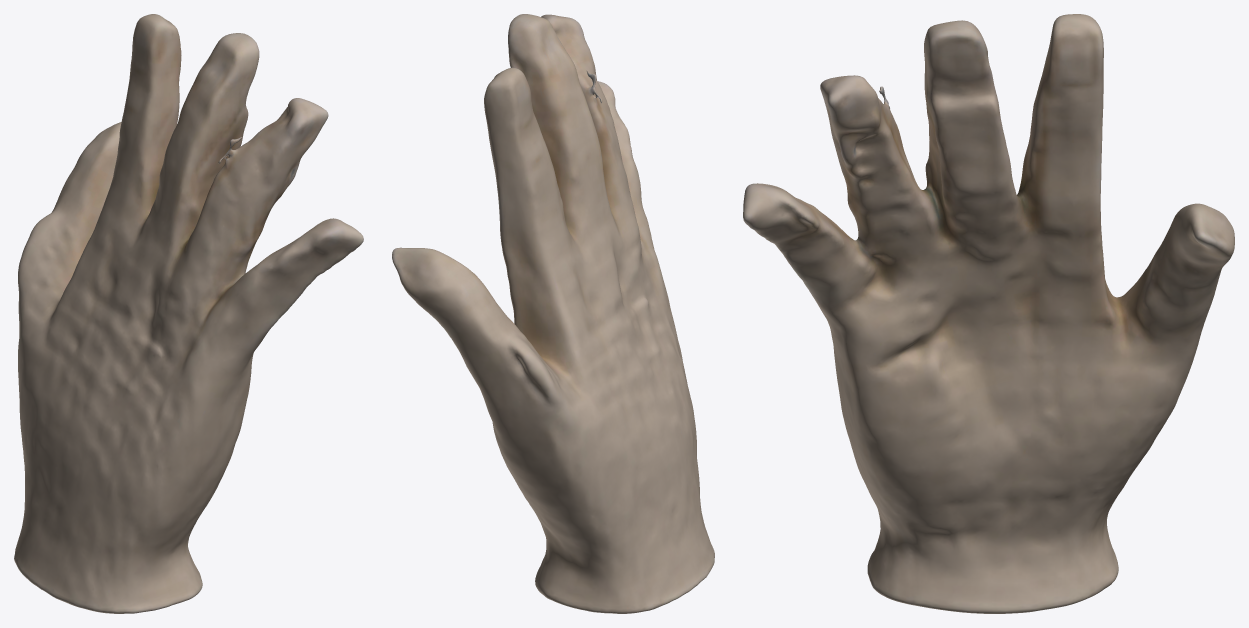
File: 0c023cca20e2_hands_sculpture__3d.fbx
The picture shows the model from 3 angles, left to right: view 1: azimuth 30°, elevation 25°; view 2: azimuth 150°, elevation 25°; view 3: azimuth 270°, elevation 25°; orthographic projection. The views are drawn at different scales.
Parts seen in each view (by area): view 1: high_poly; view 2: high_poly; view 3: high_poly.
Part boxes in pixels (bbox=[...]): high_poly: bbox=[14, 14, 363, 613]; high_poly: bbox=[392, 14, 714, 613]; high_poly: bbox=[743, 14, 1234, 613].
Bounding box in the file's own units: 44.62 × 100 × 71.93.
